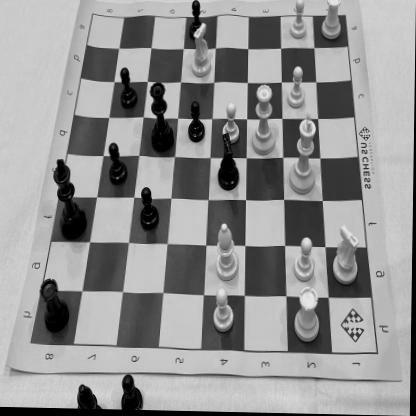black-king: (52, 155, 93, 244)
black-knight: (216, 133, 243, 193)
black-pawn: (136, 184, 162, 233), (107, 140, 132, 190), (117, 66, 142, 112), (186, 100, 208, 146), (186, 0, 206, 42)
black-queen: (148, 80, 176, 156)
black-rook: (40, 276, 74, 336)
white-bishop: (214, 219, 244, 284)
white-king: (286, 110, 320, 196)
white-knight: (332, 222, 366, 286), (188, 22, 218, 80)
white-pawn: (212, 285, 238, 336), (292, 236, 318, 284), (219, 102, 244, 148), (286, 0, 311, 43), (286, 65, 307, 114)
white-queen: (249, 83, 278, 156)
white-rook: (293, 286, 324, 346), (319, 0, 346, 42)
